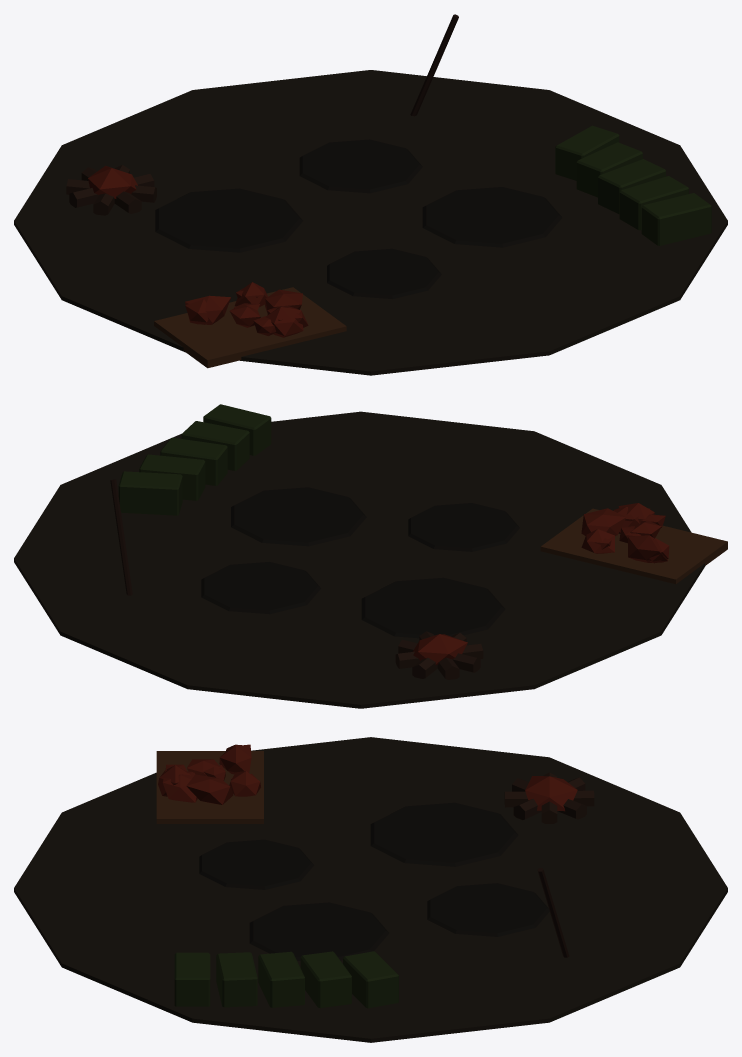
File: bog_pits.fbx
The picture shows the model from 3 angles, top to bottom: view 1: azimuth 30°, elevation 25°; view 2: azimuth 150°, elevation 25°; view 3: azimuth 270°, elevation 25°; orthographic projection. The views are drawn at different scales.
Visible parts, largest first — view 1: bog_pits; view 2: bog_pits; view 3: bog_pits.
Part boxes in pixels (box(x1,y1,x2,y2)): bog_pits: box(14, 14, 727, 375); bog_pits: box(14, 404, 727, 708); bog_pits: box(14, 737, 727, 1042).
Size of the model in its own units: 8 by 1.33 by 8.
